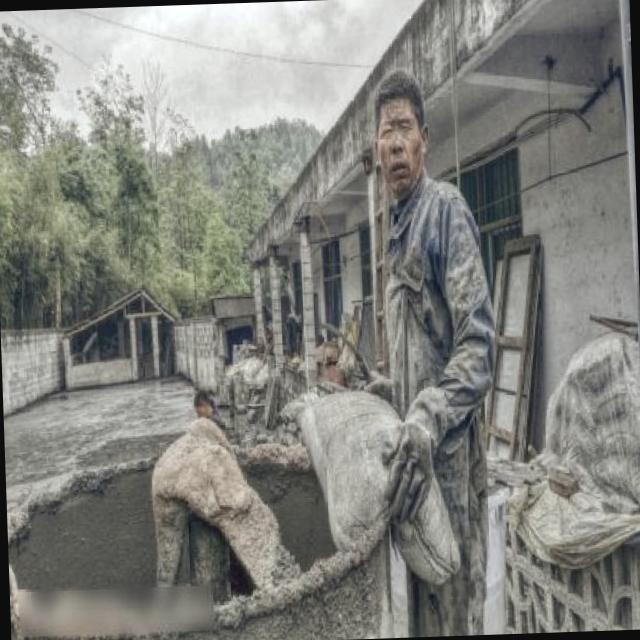Person: (337, 37, 513, 638)
